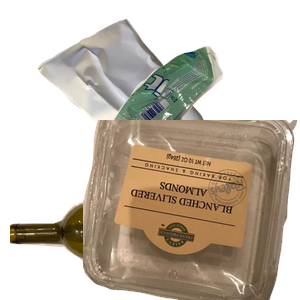glass: (10, 189, 250, 300)
paper: (35, 10, 237, 178)
plastic: (83, 120, 300, 300)
trash: (92, 44, 300, 211)
